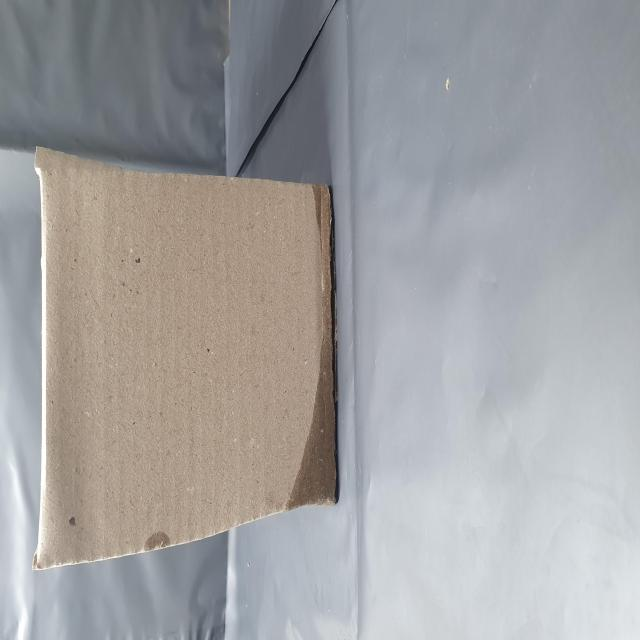wet: (64, 500, 259, 608)
